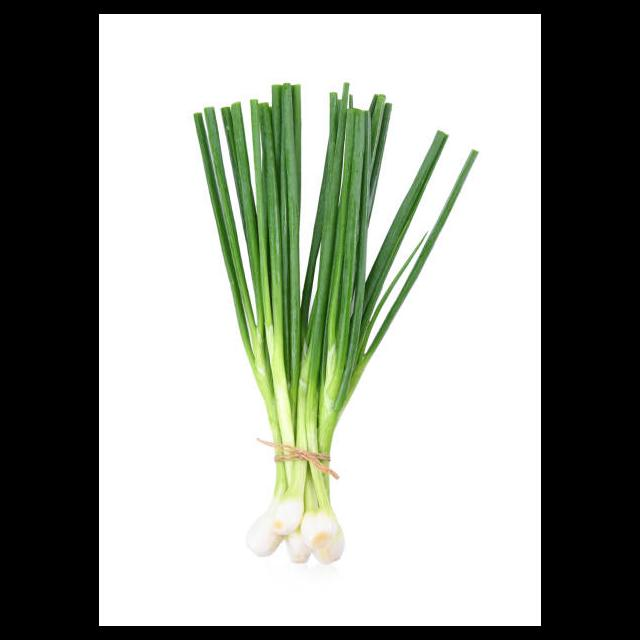green_onion: (191, 52, 448, 581)
